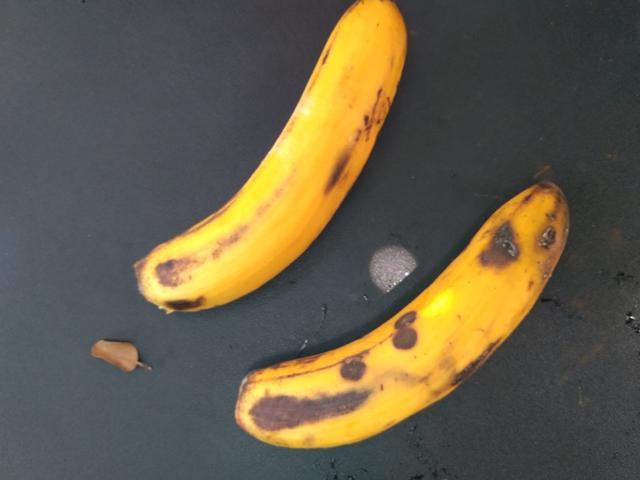overripe: (207, 178, 593, 465)
ripe: (101, 0, 424, 316)
